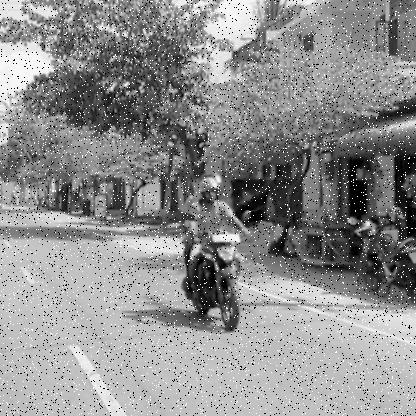motorcycle: (180, 233, 252, 335)
